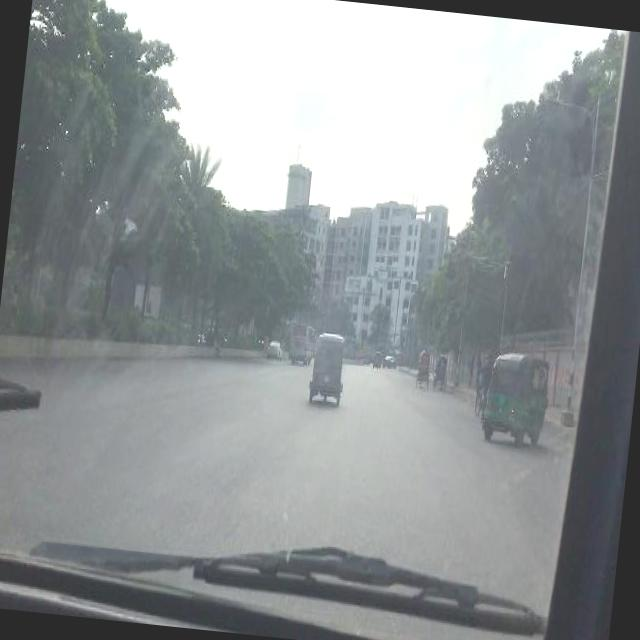bus: (288, 321, 316, 362)
car: (266, 340, 284, 360), (383, 356, 398, 367)
motorcycle: (483, 352, 554, 442), (308, 330, 347, 403), (414, 348, 432, 388), (434, 354, 450, 385), (374, 349, 384, 368)
